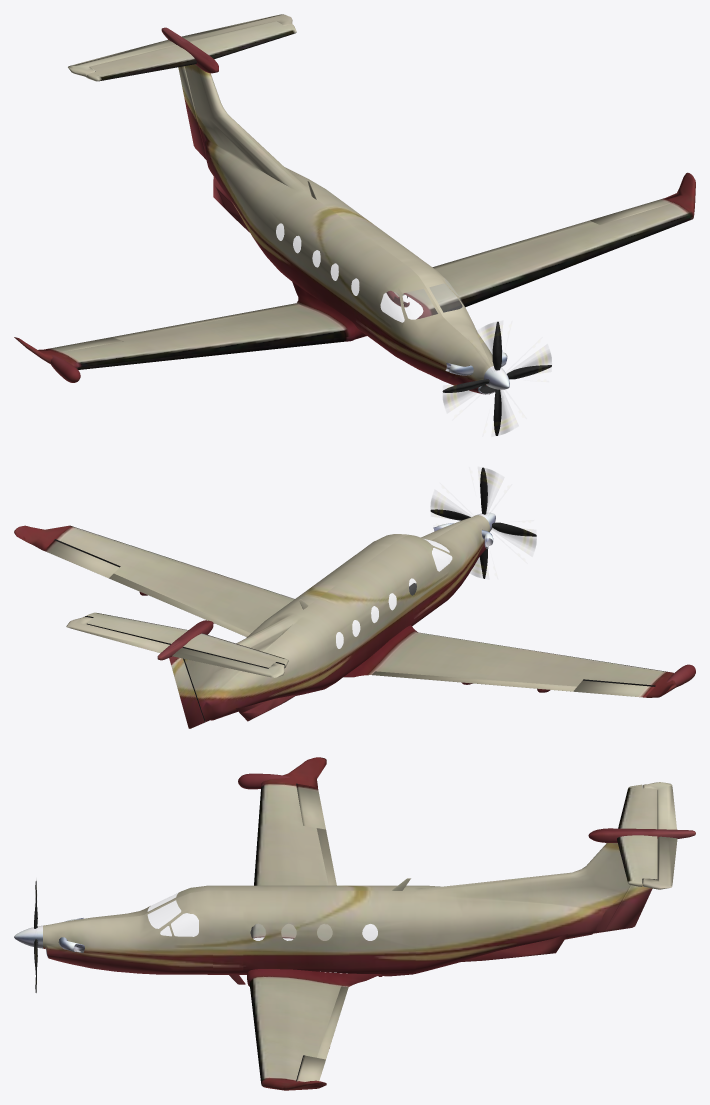
3 renders of one model, top to bottom at view 1: azimuth 30°, elevation 25°; view 2: azimuth 150°, elevation 25°; view 3: azimuth 270°, elevation 25°, orthographic. The views are drawn at different scales.
Visible parts, largest first — view 1: voletG, fuselage, vitres, propdisc; view 2: voletG, fuselage, propdisc, vitres; view 3: fuselage, voletG, vitres.
Part boxes in pixels (bbox=[...]): voletG: bbox=[14, 14, 695, 435]; fuselage: bbox=[184, 64, 507, 394]; vitres: bbox=[276, 223, 463, 322]; propdisc: bbox=[443, 323, 551, 434]; voletG: bbox=[14, 467, 695, 728]; fuselage: bbox=[184, 515, 493, 722]; propdisc: bbox=[431, 468, 536, 577]; vitres: bbox=[336, 538, 451, 648]; fuselage: bbox=[43, 843, 629, 984]; voletG: bbox=[14, 757, 695, 1090]; vitres: bbox=[148, 893, 377, 940].
Size of the model in its own units: 16.21 by 3.8 by 14.39.
3 materials, 2 textured.
